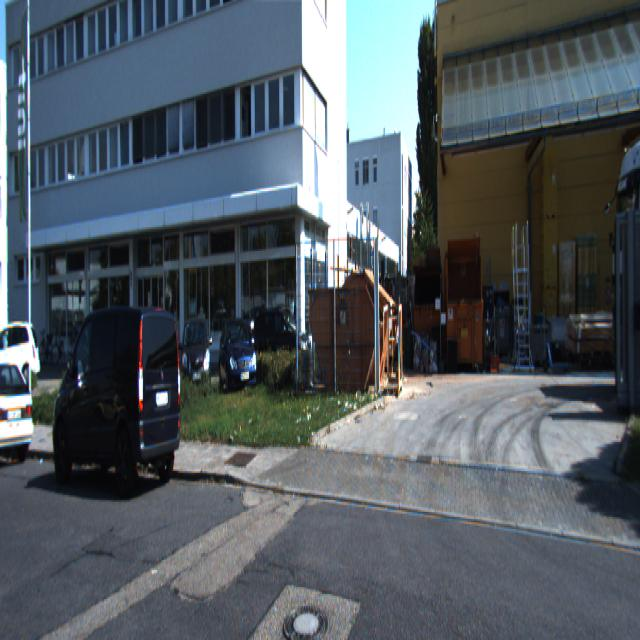Car: (48, 297, 182, 502), (0, 352, 34, 467), (218, 315, 259, 407), (178, 316, 212, 413)
